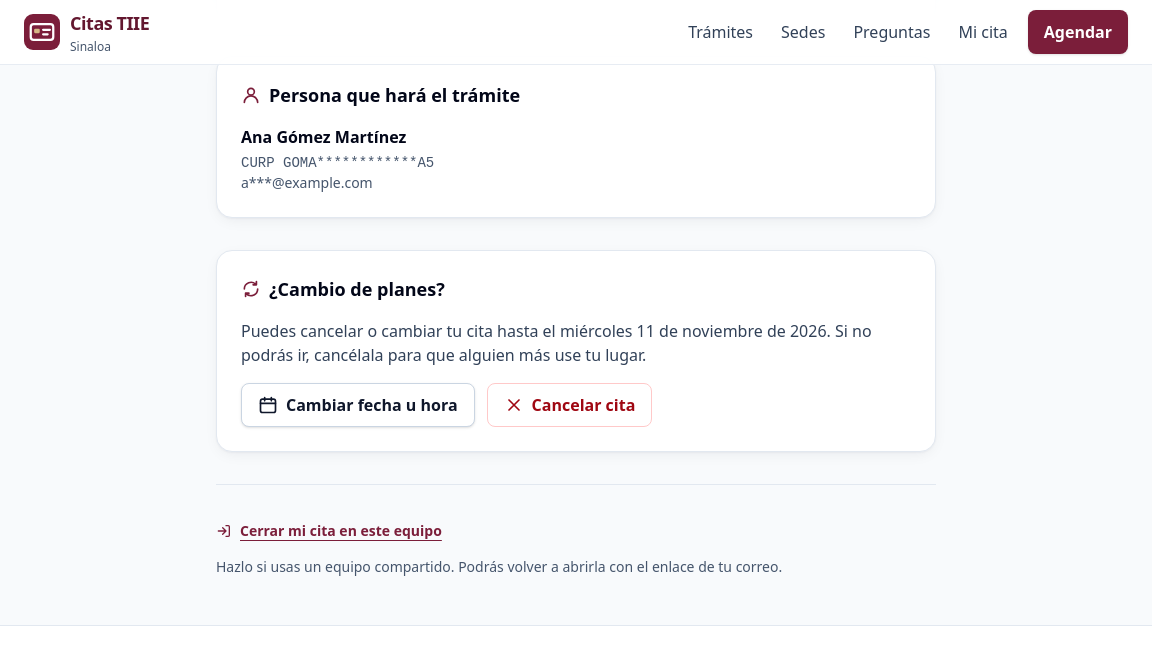
it: Mi cita › el diálogo se cierra con Escape sin cancelar
This screenshot has width=1152, height=666.
(page scrolled)
Click the button "Cancelar cita" at (569, 404), box [487,382,652,426]
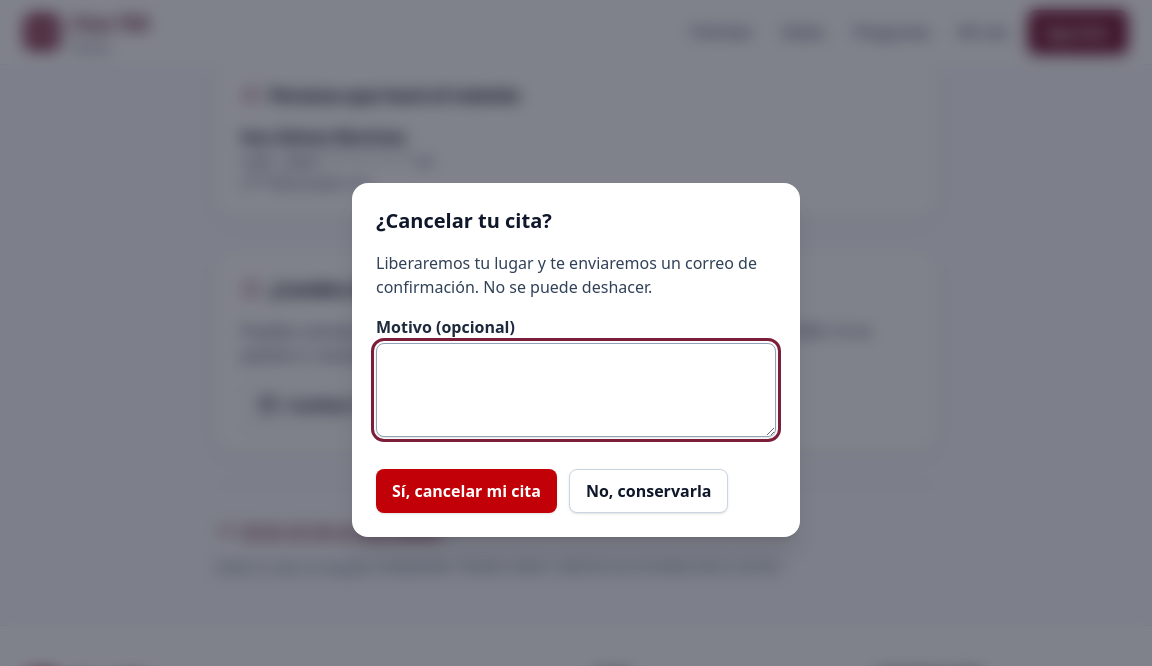
expect the dialog is shown: met, box [352,183,800,537]
Press Escape
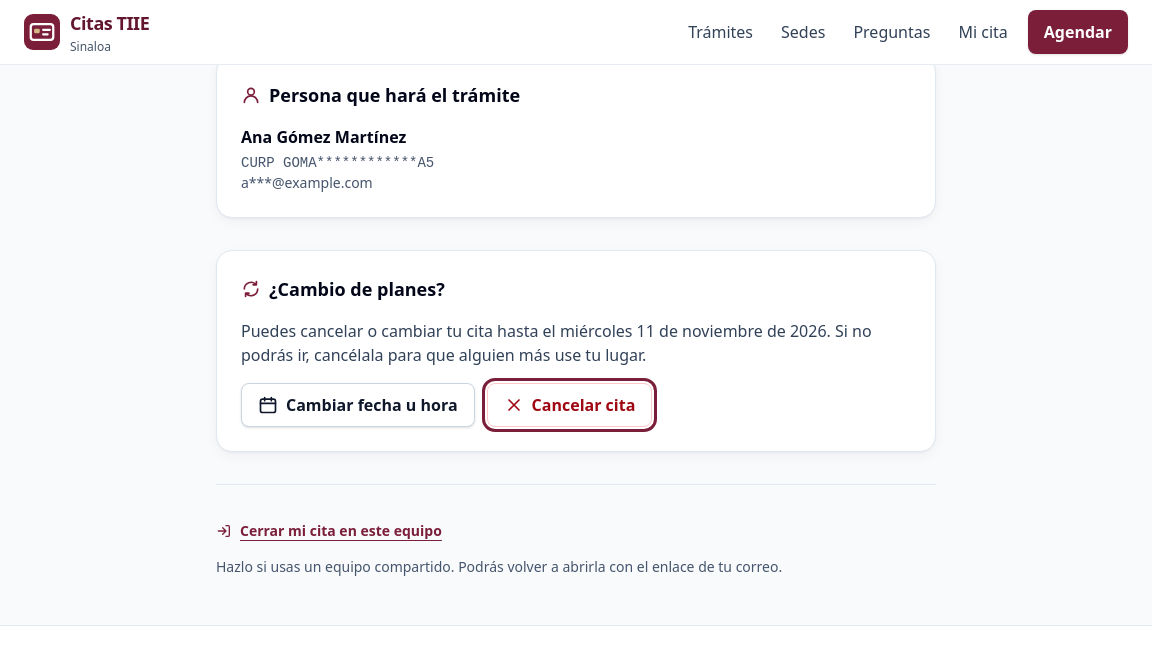
expect the dialog is gone: met
